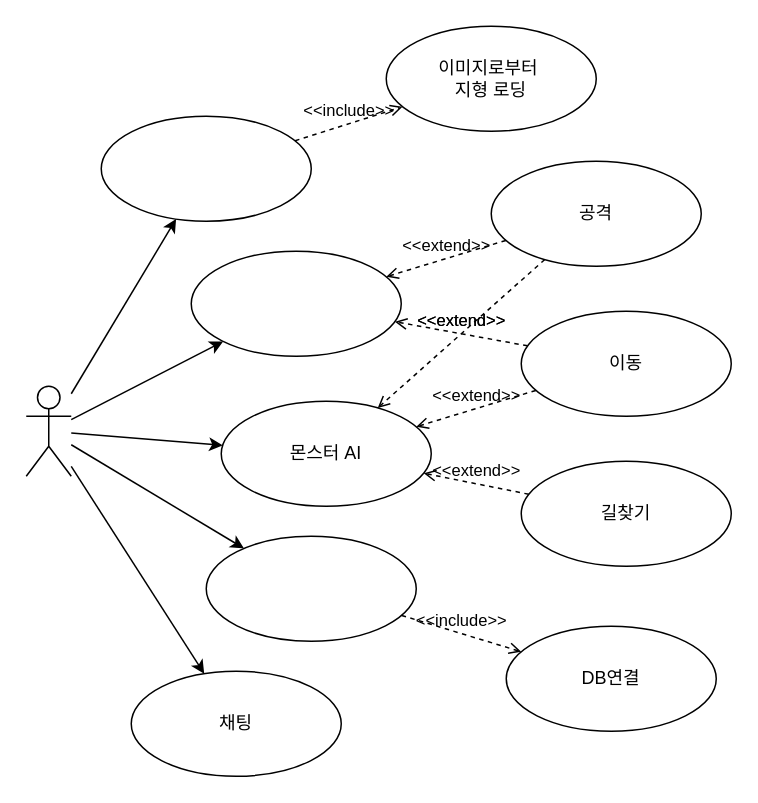
Some shapes in this 758 by 803 pixel diagram are drawn without their labels. The shapes that lost their labels are listed below. From the top down, each one's centre as x and y in pixels, then its label:
point 205,168: 지형
point 295,303: 전투
point 48,430: User
point 310,588: 로그인
